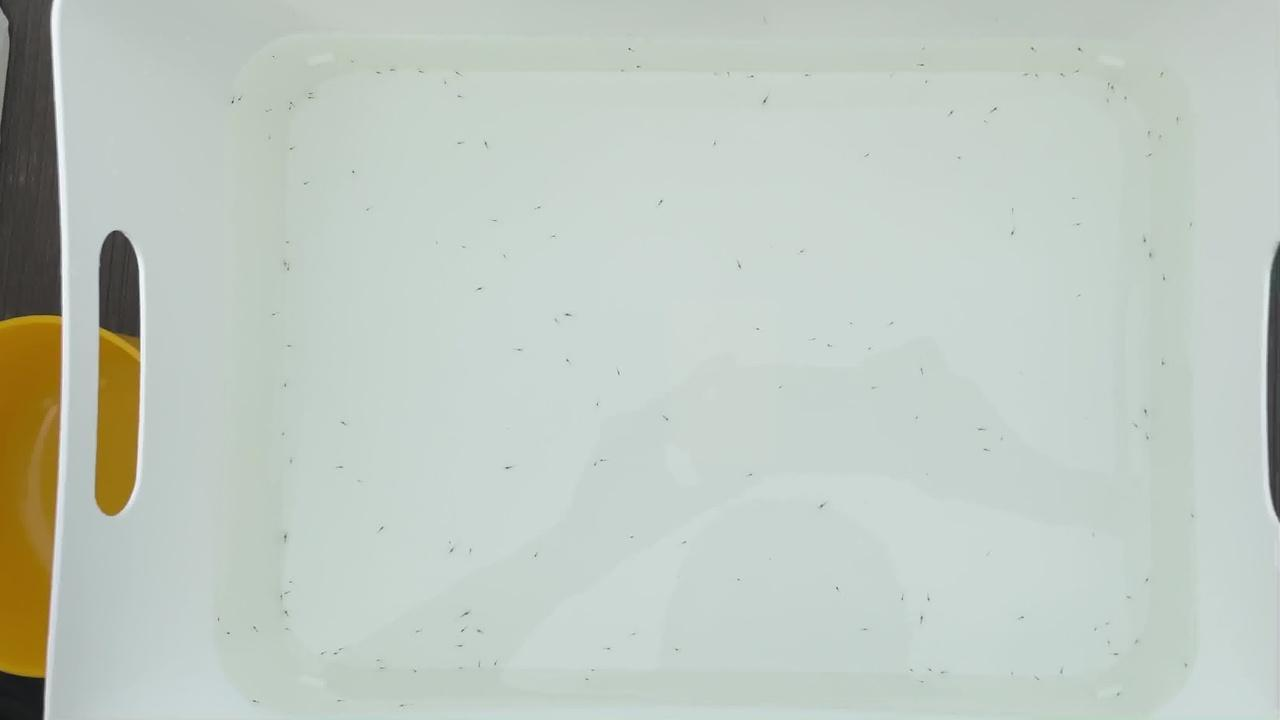shrimp: (236, 96, 249, 104), (307, 90, 320, 98), (280, 240, 293, 248), (549, 234, 562, 242), (722, 69, 735, 77), (1117, 96, 1130, 104), (1144, 251, 1157, 259), (864, 345, 877, 353), (1111, 650, 1124, 658), (1182, 661, 1195, 669), (923, 595, 936, 603), (897, 595, 910, 603), (833, 584, 846, 592), (906, 667, 919, 675), (923, 666, 936, 674), (603, 645, 616, 653), (457, 628, 470, 636), (474, 628, 487, 636), (334, 644, 347, 652), (247, 622, 260, 630), (617, 68, 630, 76), (418, 69, 430, 77), (474, 285, 486, 293), (917, 63, 929, 71), (1144, 129, 1156, 137), (1188, 511, 1200, 519), (984, 550, 996, 558), (274, 595, 286, 603), (280, 534, 292, 542), (226, 99, 239, 106), (284, 105, 297, 112), (307, 96, 320, 103), (372, 71, 385, 78), (385, 67, 398, 74), (453, 92, 466, 99), (454, 140, 467, 147), (286, 146, 299, 153), (264, 135, 277, 142), (297, 183, 310, 190), (349, 169, 362, 176), (364, 207, 377, 214), (278, 259, 291, 266), (281, 267, 294, 274), (282, 341, 295, 348), (431, 241, 444, 248), (499, 255, 512, 262), (530, 203, 543, 210), (656, 200, 669, 207), (733, 263, 746, 270), (796, 249, 809, 256), (709, 139, 722, 146), (633, 63, 646, 70), (758, 100, 771, 107), (803, 72, 816, 79), (860, 153, 873, 160), (945, 108, 958, 115), (987, 106, 1000, 113), (919, 77, 932, 84), (978, 118, 991, 125), (1019, 73, 1032, 80), (1030, 74, 1043, 81), (1027, 46, 1040, 53), (1057, 72, 1070, 79), (1073, 46, 1086, 53), (1072, 68, 1085, 75), (1101, 82, 1114, 89), (1107, 86, 1120, 93), (1101, 98, 1114, 105), (1172, 117, 1185, 124), (1156, 133, 1169, 140), (1142, 155, 1155, 162), (1185, 222, 1198, 229), (1158, 276, 1171, 283), (1069, 194, 1082, 201), (1007, 207, 1020, 214), (887, 319, 900, 326), (845, 320, 858, 327), (824, 342, 837, 349), (807, 336, 820, 343), (1072, 292, 1085, 299), (1155, 360, 1168, 367), (1141, 408, 1154, 415), (1128, 423, 1141, 430), (1143, 434, 1156, 441), (974, 426, 987, 433), (995, 434, 1008, 441), (981, 446, 994, 453), (909, 416, 922, 423), (917, 366, 930, 373), (871, 384, 884, 391), (774, 384, 787, 391), (743, 473, 756, 480), (1088, 533, 1101, 540), (1140, 578, 1153, 585), (1124, 593, 1137, 600), (1101, 621, 1114, 628), (1090, 625, 1103, 632), (1102, 639, 1115, 646), (1132, 638, 1145, 645), (1032, 676, 1045, 683), (1015, 614, 1028, 621), (916, 616, 929, 623), (857, 626, 870, 633), (916, 678, 929, 685), (936, 669, 949, 676), (734, 575, 747, 582), (679, 538, 692, 545), (627, 631, 640, 638), (670, 647, 683, 654), (586, 666, 599, 673), (583, 676, 596, 683), (488, 661, 501, 668), (476, 662, 489, 669), (452, 643, 465, 650), (462, 609, 475, 616), (413, 626, 426, 633), (409, 669, 422, 676), (378, 665, 391, 672), (375, 658, 388, 665), (333, 696, 346, 703), (316, 650, 329, 657), (250, 698, 263, 705), (222, 630, 235, 637), (281, 627, 294, 634), (283, 589, 296, 596), (377, 524, 390, 531), (447, 547, 460, 554), (531, 552, 544, 559), (598, 457, 611, 464), (334, 465, 347, 472), (353, 478, 366, 485), (337, 419, 350, 426), (280, 432, 293, 439), (280, 382, 293, 389), (560, 359, 573, 366), (613, 370, 626, 377), (592, 401, 605, 408), (662, 415, 675, 422), (760, 16, 773, 23), (348, 60, 361, 67), (269, 54, 281, 61), (263, 108, 275, 115), (285, 100, 297, 107), (452, 72, 464, 79), (441, 79, 453, 86), (480, 143, 492, 150), (269, 312, 281, 319), (457, 242, 469, 249), (490, 217, 502, 224), (563, 312, 575, 319), (551, 317, 563, 324), (513, 347, 525, 354), (624, 47, 636, 54), (745, 74, 757, 81), (956, 156, 968, 163), (1155, 72, 1167, 79), (1138, 237, 1150, 244), (1072, 221, 1084, 228), (1006, 229, 1018, 236), (751, 326, 763, 333), (817, 503, 829, 510), (1111, 694, 1123, 701), (1056, 668, 1068, 675), (1006, 670, 1018, 677), (629, 534, 641, 541), (457, 665, 469, 672), (397, 703, 409, 710), (330, 650, 342, 657), (214, 619, 226, 626), (280, 610, 292, 617), (285, 579, 297, 586), (463, 549, 475, 556), (590, 460, 602, 467), (502, 465, 514, 472), (285, 455, 297, 462), (712, 72, 724, 79)
